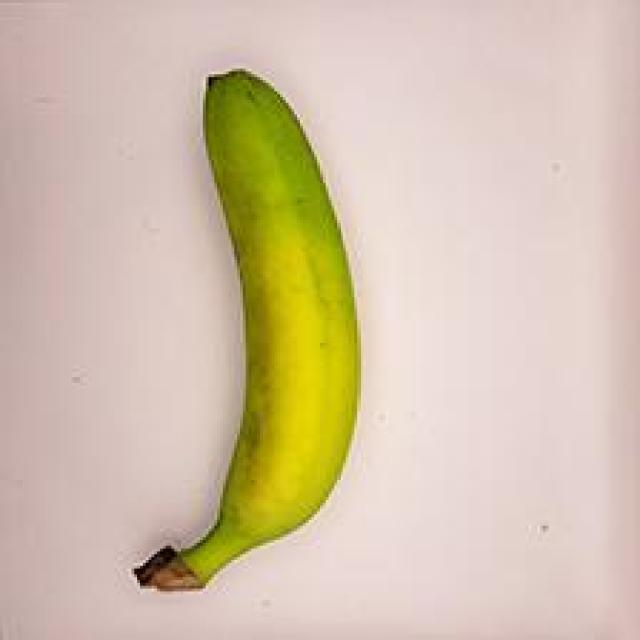unripe: (113, 47, 392, 602)
